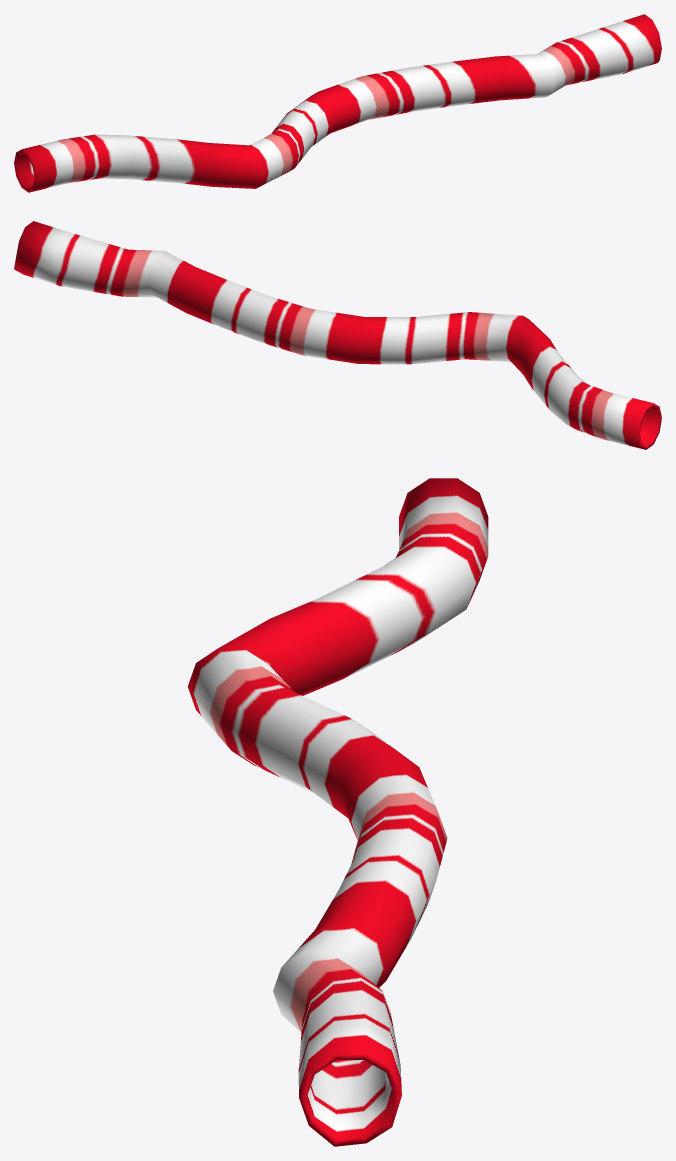
Rendered from CandyTwistTunnel3.fbx.
3 views of the same model, one above another, from view 1: azimuth 30°, elevation 25°; view 2: azimuth 150°, elevation 25°; view 3: azimuth 270°, elevation 25° (orthographic). The views are drawn at different scales.
Parts seen in each view (by area): view 1: Cylinder.005; view 2: Cylinder.005; view 3: Cylinder.005.
Part boxes in pixels (box(x1,y1,x2,y2)): Cylinder.005: box(14, 14, 661, 192); Cylinder.005: box(14, 221, 661, 449); Cylinder.005: box(187, 478, 488, 1146).
Size of the model in its own units: 1505 by 111 by 324.
